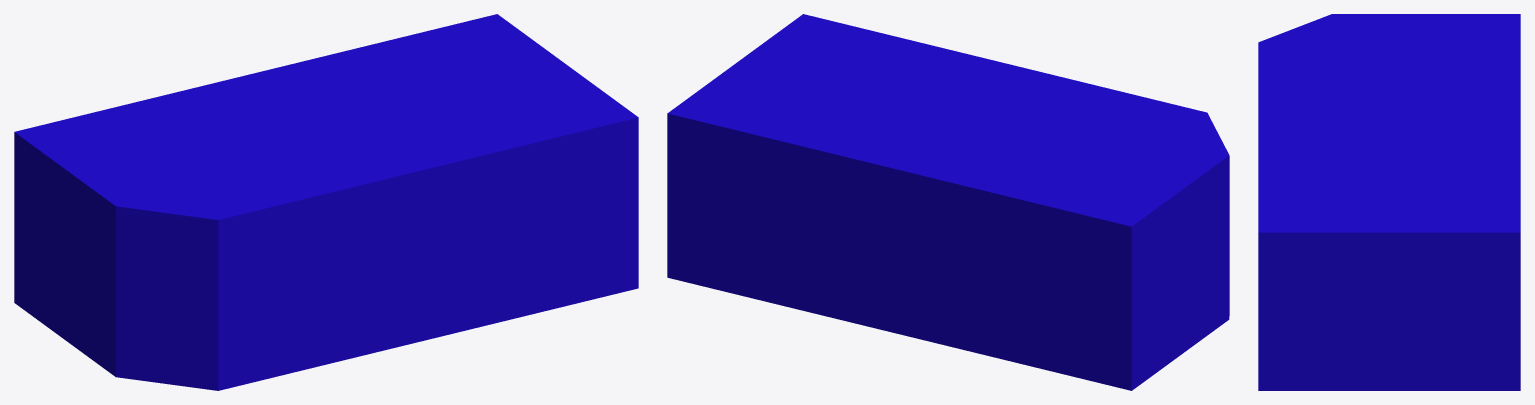
Rendered from simple_example_hole_part_17.obj.
3 renders of one model, left to right at view 1: azimuth 30°, elevation 25°; view 2: azimuth 150°, elevation 25°; view 3: azimuth 270°, elevation 25°, orthographic. The views are drawn at different scales.
Bounding box in the file's own units: 29.59 × 10 × 15.
